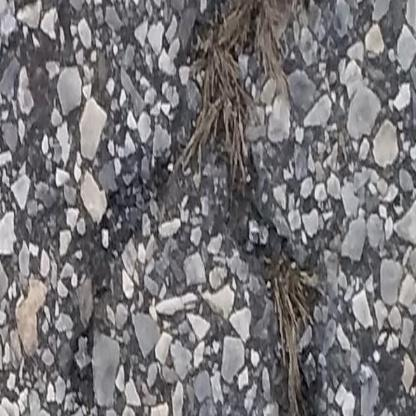Cracks: (68, 0, 351, 416)
